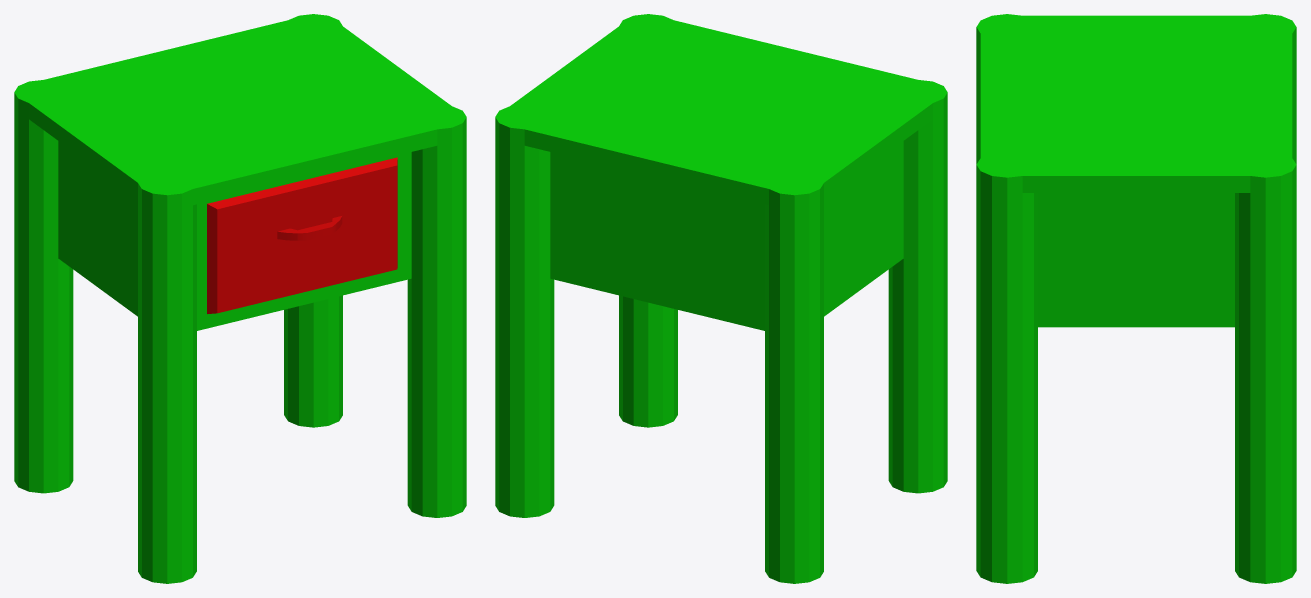
The model's file is bed_table.fbx.
The picture shows the model from 3 angles, left to right: view 1: azimuth 30°, elevation 25°; view 2: azimuth 150°, elevation 25°; view 3: azimuth 270°, elevation 25°; orthographic projection. The views are drawn at different scales.
Parts seen in each view (by area): view 1: pCube17; view 2: pCube17; view 3: pCube17.
Boxes of the visible parts, <box> form: pCube17: <box>14,14,466,583</box>; pCube17: <box>495,14,947,583</box>; pCube17: <box>976,14,1296,583</box>.
Bounding box in the file's own units: 3.6 × 4.16 × 2.97.
